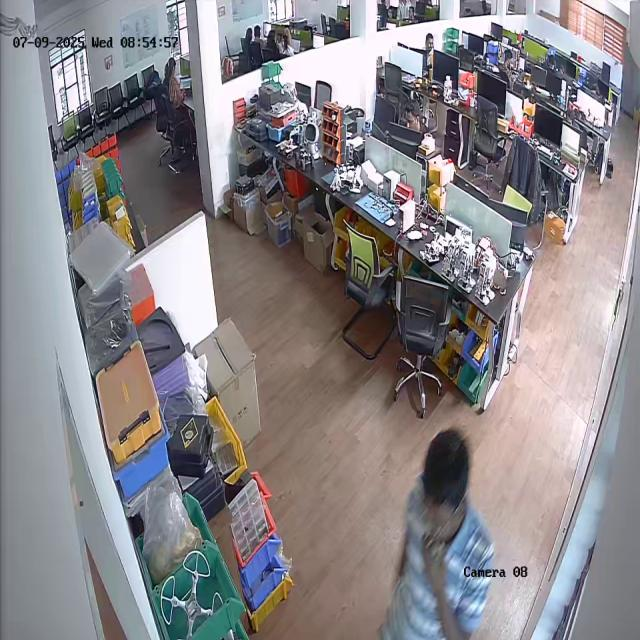person: (378, 421, 492, 640)
